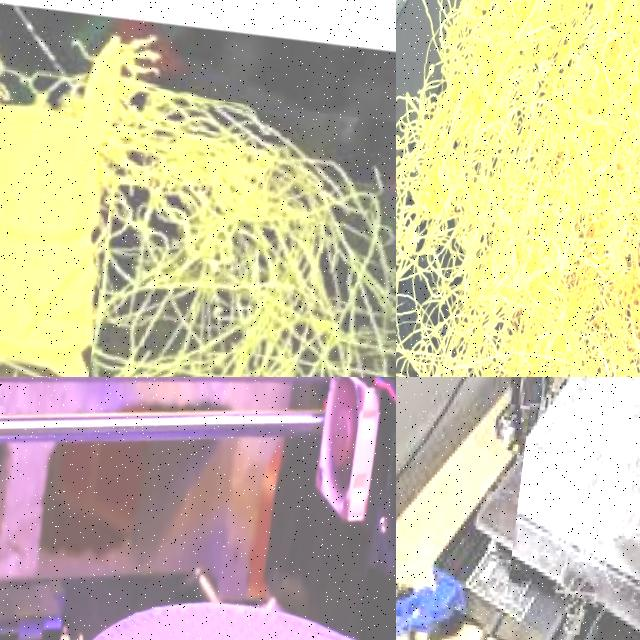spaghetti: (77, 88, 396, 377), (396, 0, 640, 377), (515, 377, 640, 596)
